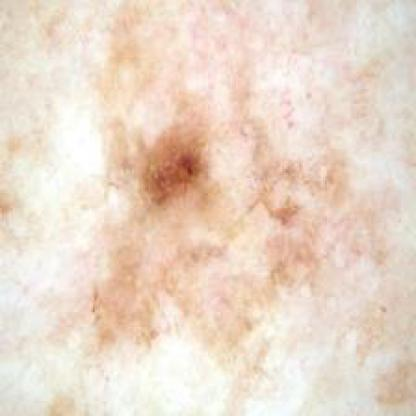malignant: (84, 111, 232, 223)
